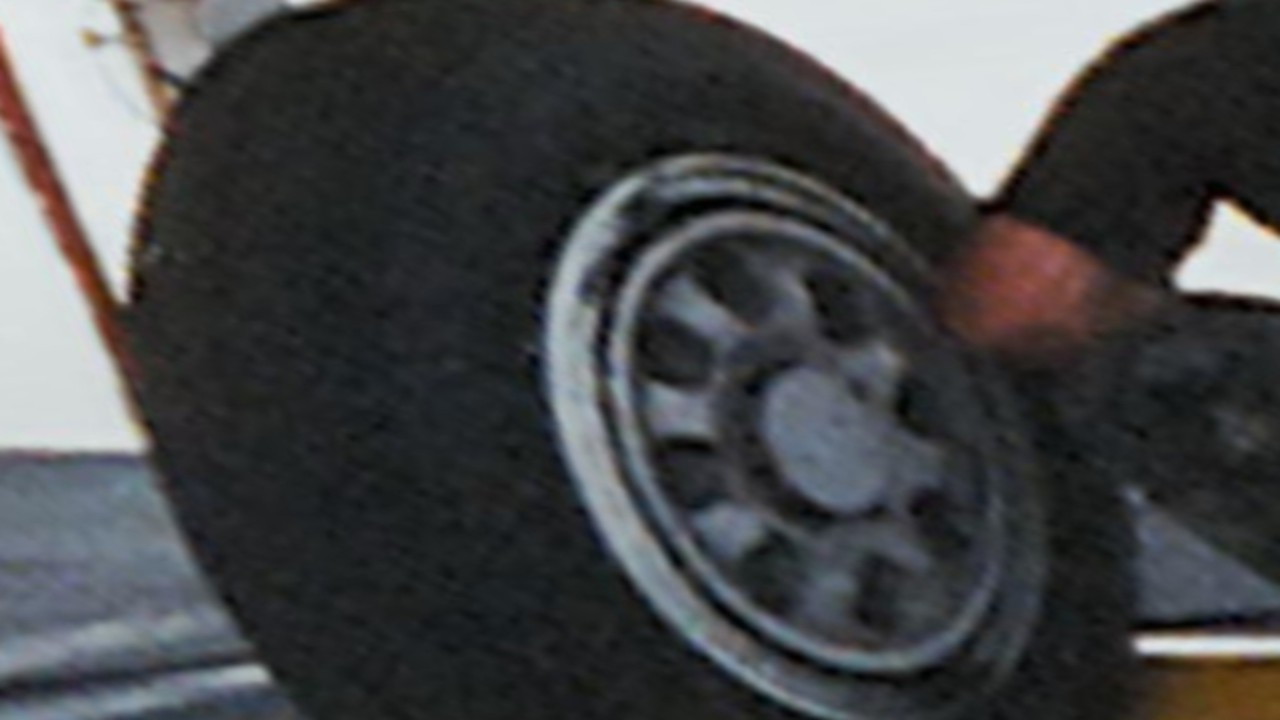chock: (758, 603, 1280, 720)
wheel: (0, 0, 1280, 720)
